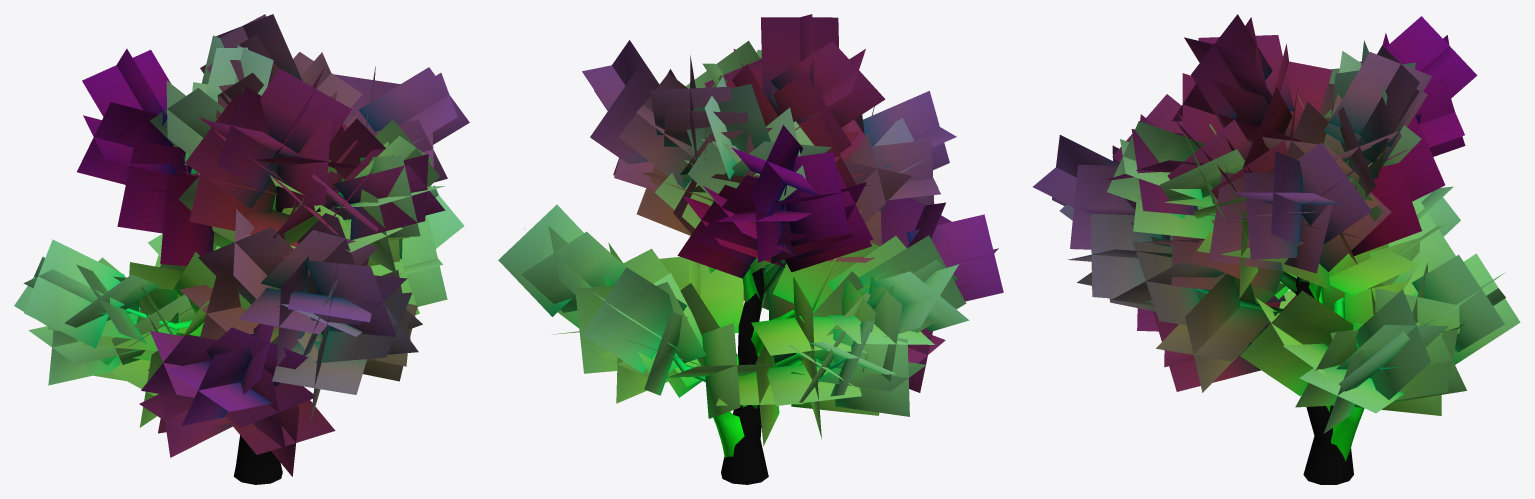
The model's file is URP_P11_Tree_10_LOD_2.fbx.
The picture shows the model from 3 angles, left to right: view 1: azimuth 30°, elevation 25°; view 2: azimuth 150°, elevation 25°; view 3: azimuth 270°, elevation 25°; orthographic projection. The views are drawn at different scales.
Parts seen in each view (by area): view 1: Tree_10_LOD_2; view 2: Tree_10_LOD_2; view 3: Tree_10_LOD_2.
Part boxes in pixels (x1,y1,x2,y2): Tree_10_LOD_2: [14, 14, 469, 484]; Tree_10_LOD_2: [498, 14, 1003, 484]; Tree_10_LOD_2: [1033, 14, 1520, 484].
Bounding box in the file's own units: 638 × 601 × 593.
